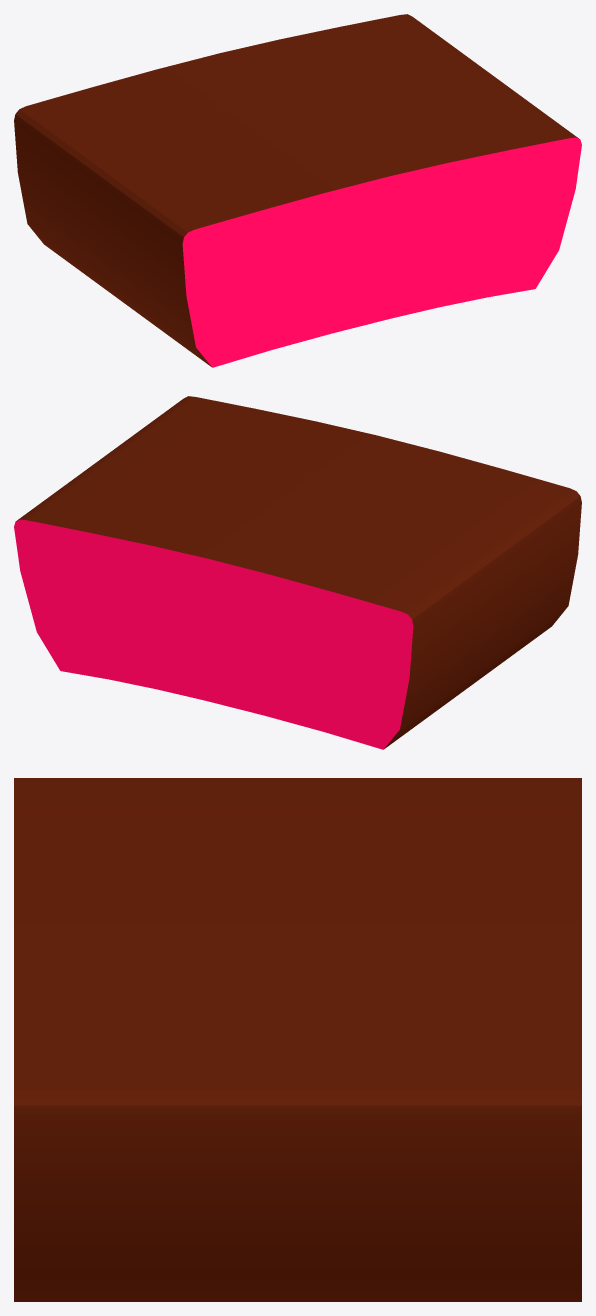
The picture shows the model from 3 angles, top to bottom: view 1: azimuth 30°, elevation 25°; view 2: azimuth 150°, elevation 25°; view 3: azimuth 270°, elevation 25°; orthographic projection. The views are drawn at different scales.
Parts seen in each view (by area): view 1: -; view 2: -; view 3: -.
Boxes of the visible parts, x1,y1,x2,y2 form: -: (14,14,581,367); -: (14,396,581,749); -: (14,778,581,1301).
Size of the model in its own units: 0.2462 by 0.0874 by 0.18.
